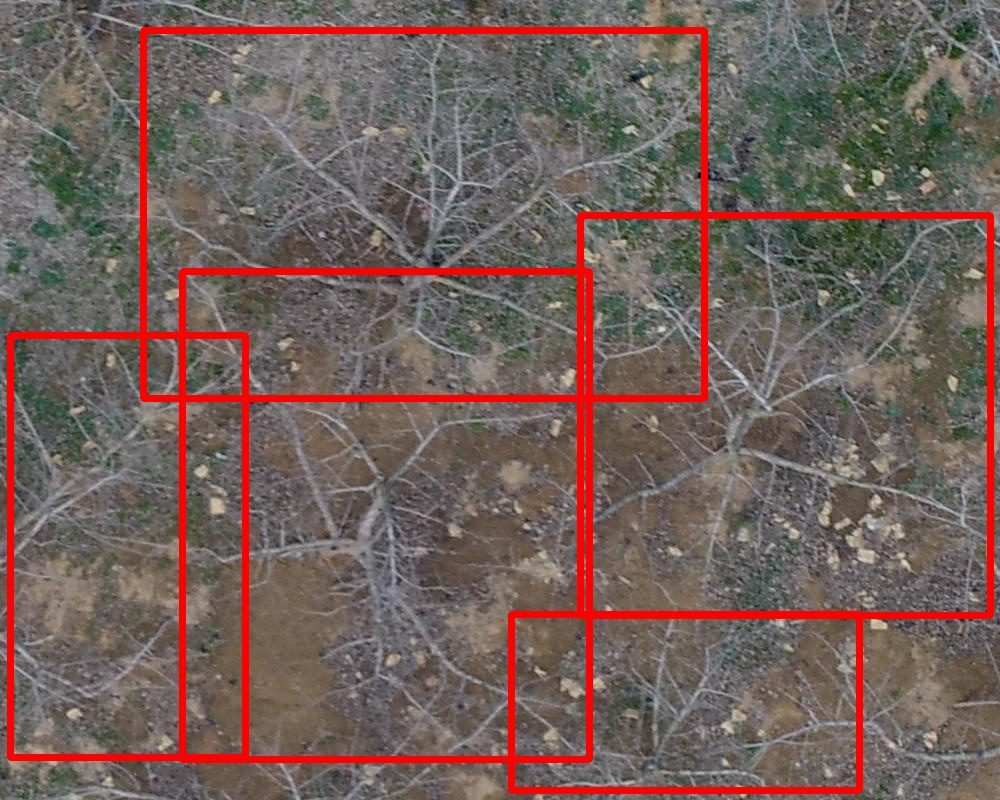apple: (143, 30, 704, 398), (182, 271, 589, 759), (580, 215, 990, 615), (10, 335, 245, 757), (511, 614, 859, 790)
